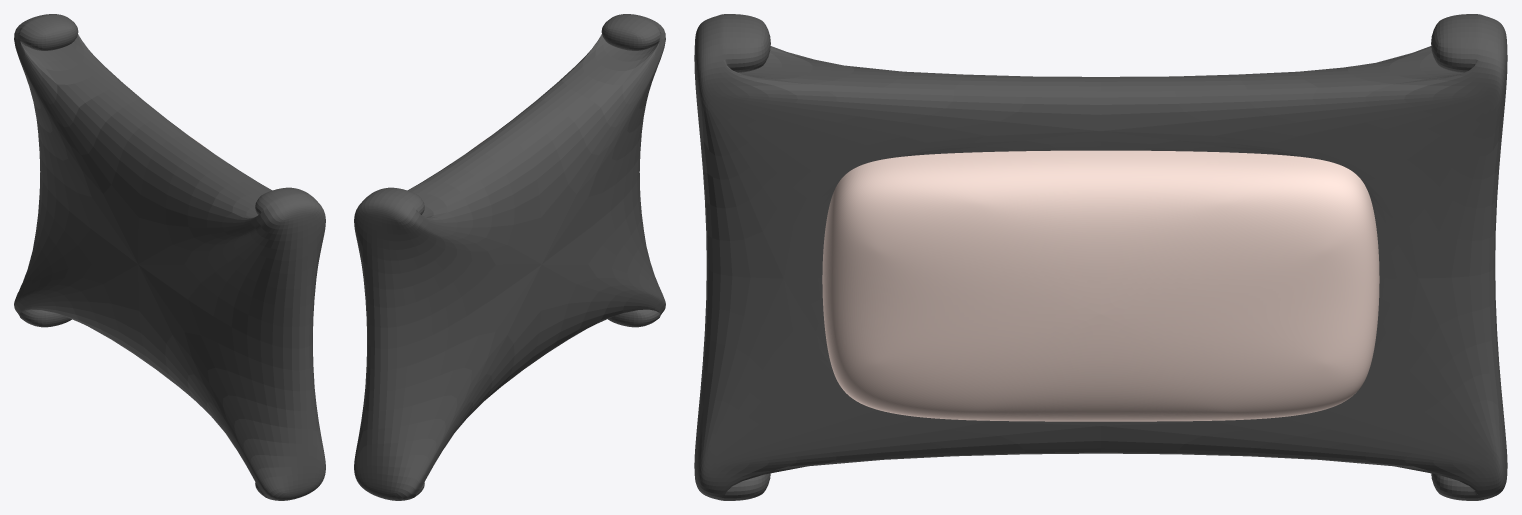
The model's file is lights.fbx.
3 views of the same model, side by side, from view 1: azimuth 30°, elevation 25°; view 2: azimuth 150°, elevation 25°; view 3: azimuth 270°, elevation 25° (orthographic). The views are drawn at different scales.
Parts seen in each view (by area): view 1: Cube.001; view 2: Cube.001; view 3: Cube.001, Cube.002.
Part boxes in pixels (left/top/right/bottom): Cube.001: left=14, top=14, right=325, bottom=500; Cube.001: left=354, top=14, right=665, bottom=500; Cube.001: left=694, top=14, right=1507, bottom=500; Cube.002: left=822, top=150, right=1379, bottom=421.
Bounding box in the file's own units: 48.18 × 128 × 201.
